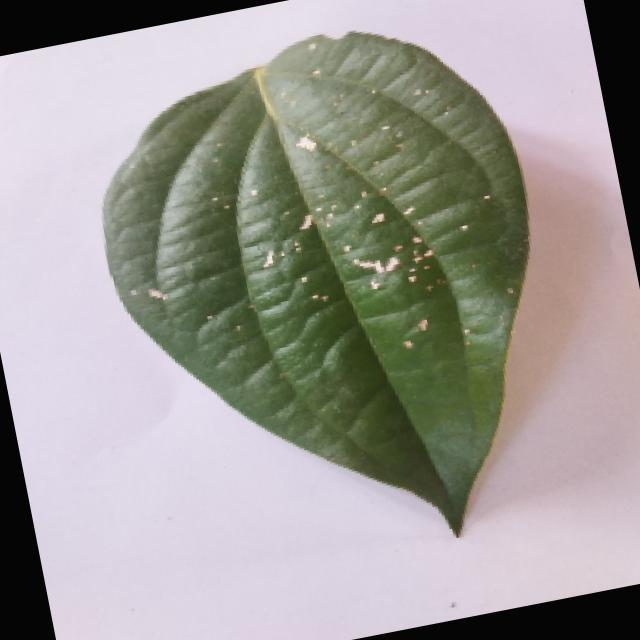pollu-disease: (62, 0, 609, 587)
